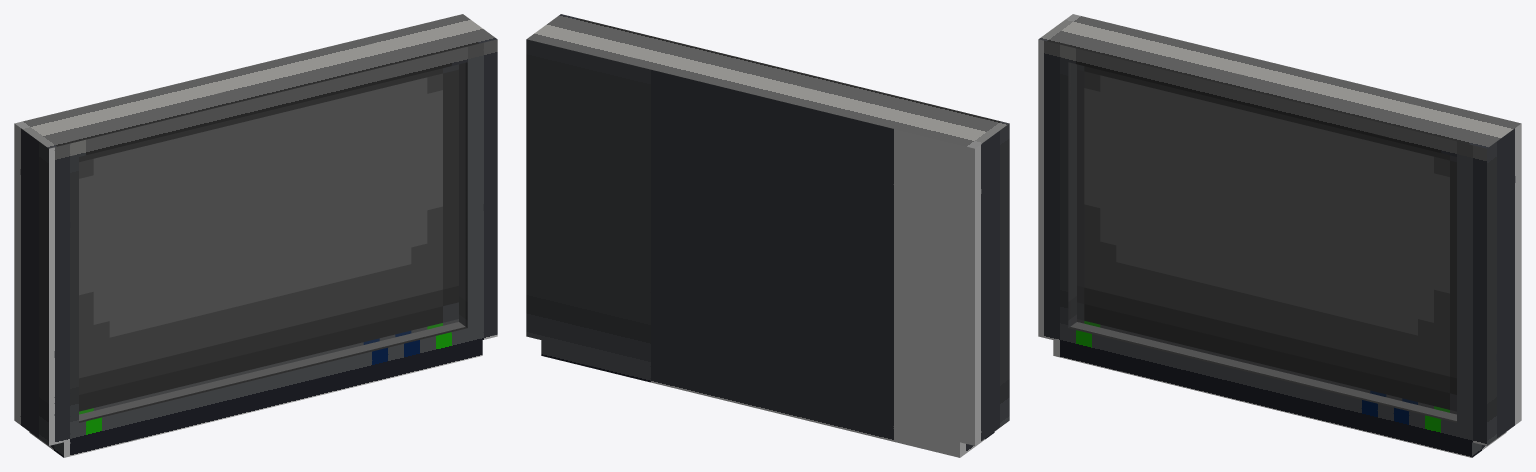
The model's file is entertainment_monitor_unpowered.glb.
The picture shows the model from 3 angles, left to right: view 1: azimuth 30°, elevation 25°; view 2: azimuth 150°, elevation 25°; view 3: azimuth 330°, elevation 25°; orthographic projection.
Parts seen in each view (by area): view 1: Continuous_Entertainment_Monitor_Housing, Closed_Screen_Glass; view 2: Continuous_Entertainment_Monitor_Housing; view 3: Continuous_Entertainment_Monitor_Housing, Closed_Screen_Glass.
Part boxes in pixels (bbox=[...]): Continuous_Entertainment_Monitor_Housing: bbox=[14, 14, 497, 457]; Closed_Screen_Glass: bbox=[79, 63, 465, 421]; Continuous_Entertainment_Monitor_Housing: bbox=[526, 14, 1009, 457]; Continuous_Entertainment_Monitor_Housing: bbox=[1038, 14, 1521, 457]; Closed_Screen_Glass: bbox=[1070, 63, 1456, 421].
Size of the model in its own units: 0.8438 by 0.5625 by 0.1125.
2 materials, 2 textured.
